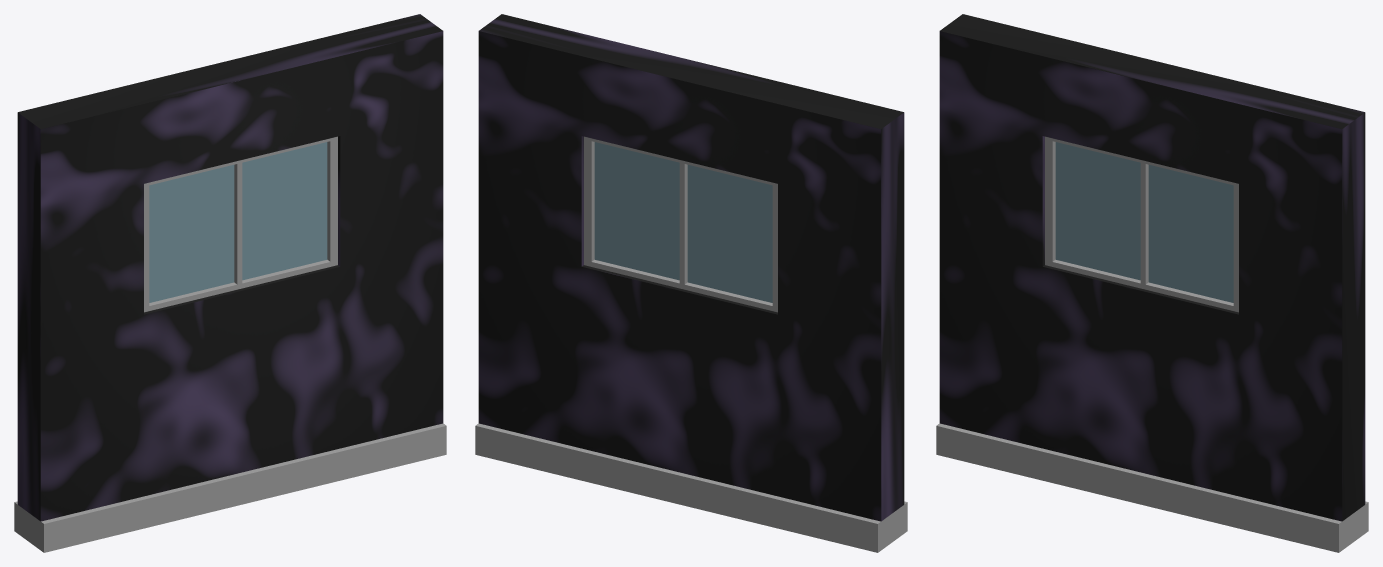
Rendered from Ventana.fbx.
The picture shows the model from 3 angles, left to right: view 1: azimuth 30°, elevation 25°; view 2: azimuth 150°, elevation 25°; view 3: azimuth 330°, elevation 25°; orthographic projection.
Visible parts, largest first — view 1: Ventana; view 2: Ventana; view 3: Ventana.
Part boxes in pixels (bbox=[...]): Ventana: bbox=[14, 14, 446, 552]; Ventana: bbox=[475, 14, 907, 552]; Ventana: bbox=[936, 14, 1368, 552].
Bounding box in the file's own units: 200 × 200 × 25.64.
